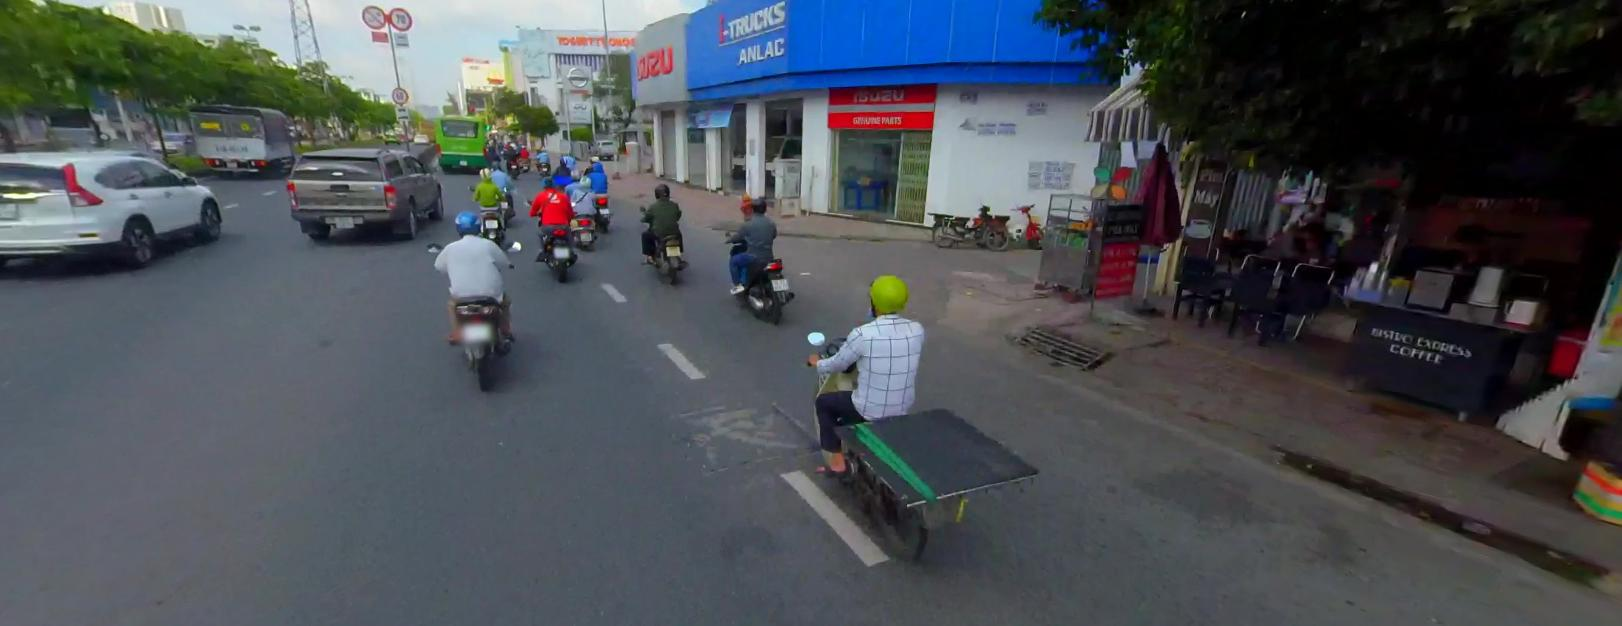Cam con lai: (362, 5, 386, 29)
Gioi han toc do: (389, 7, 413, 30), (392, 87, 409, 103)
